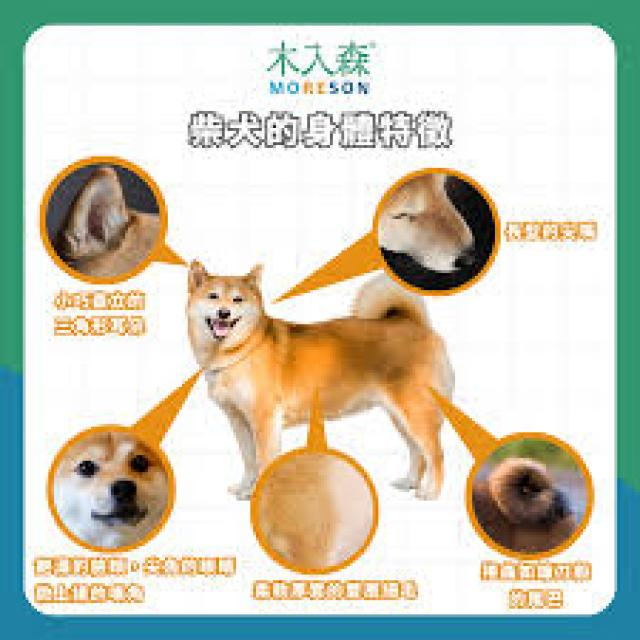Shiba-Inu: (190, 261, 458, 501)
